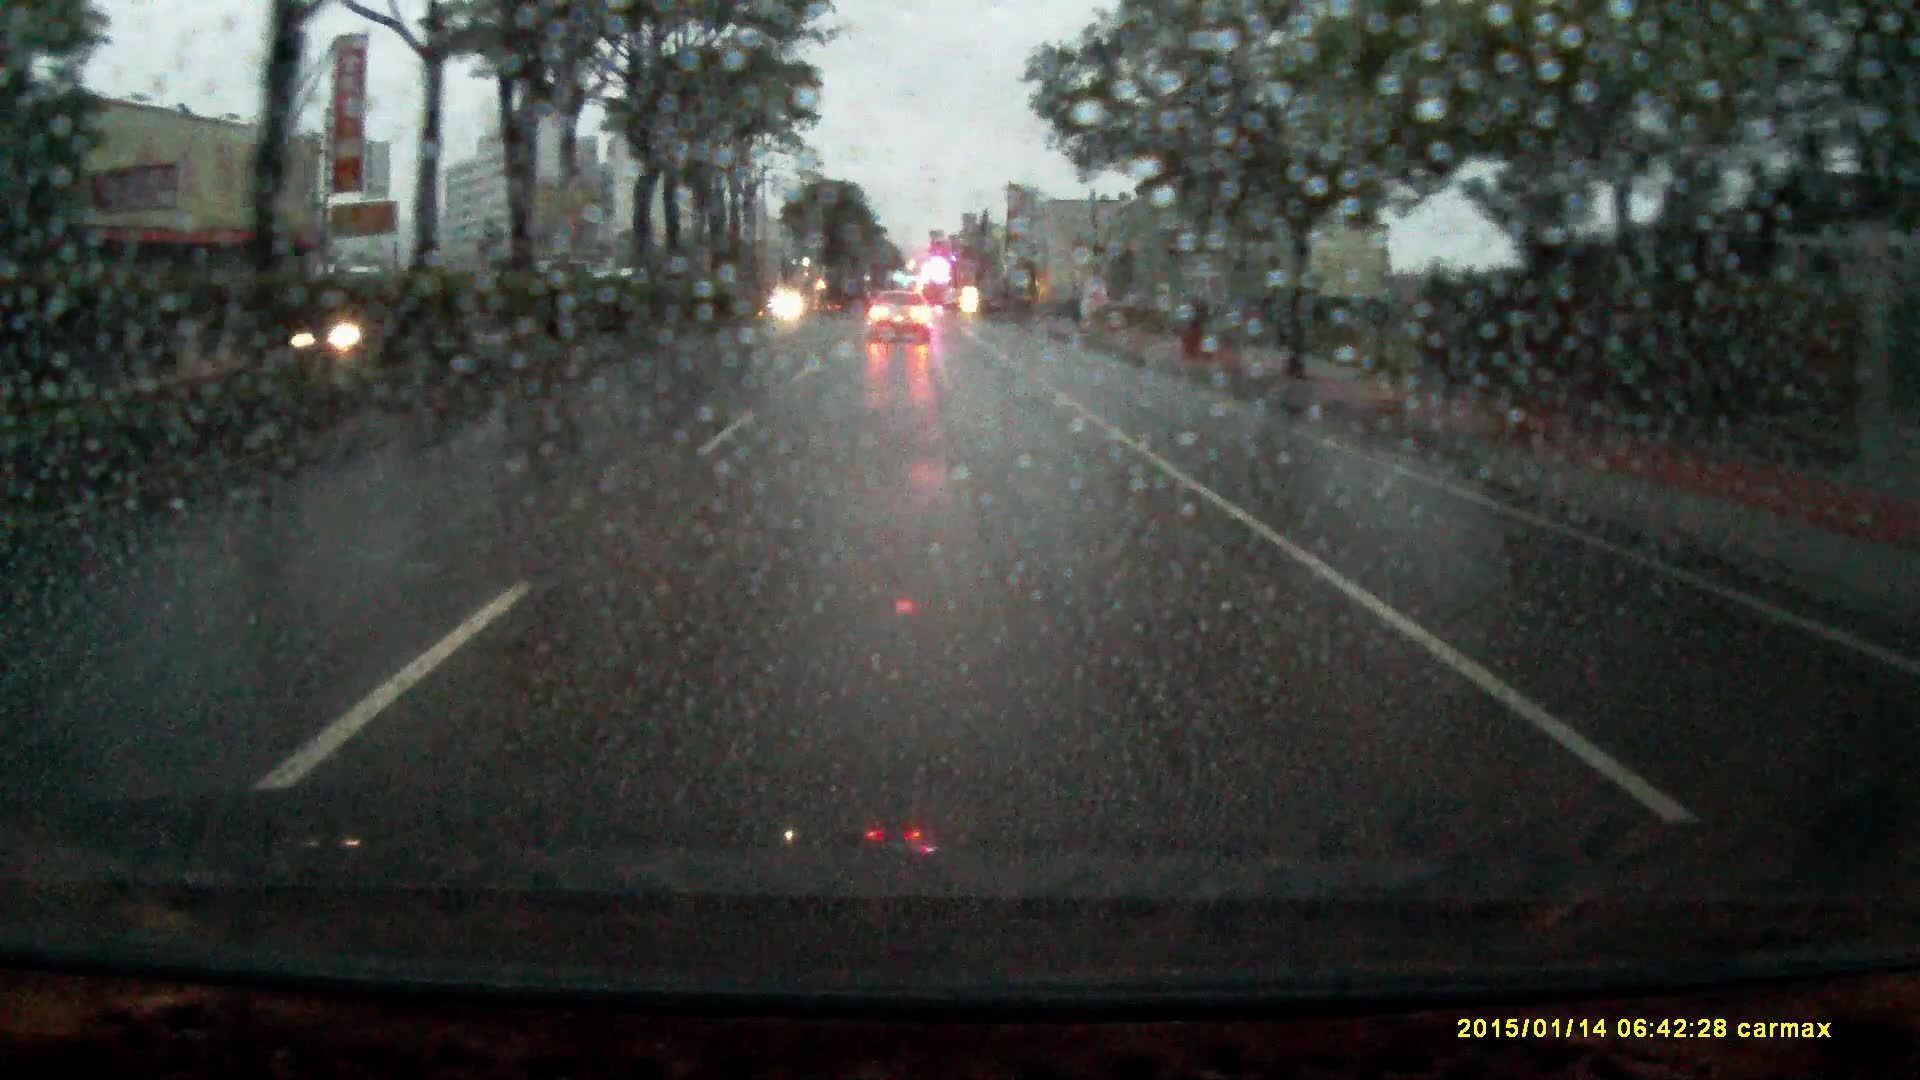vehicle: (872, 291, 935, 342)
